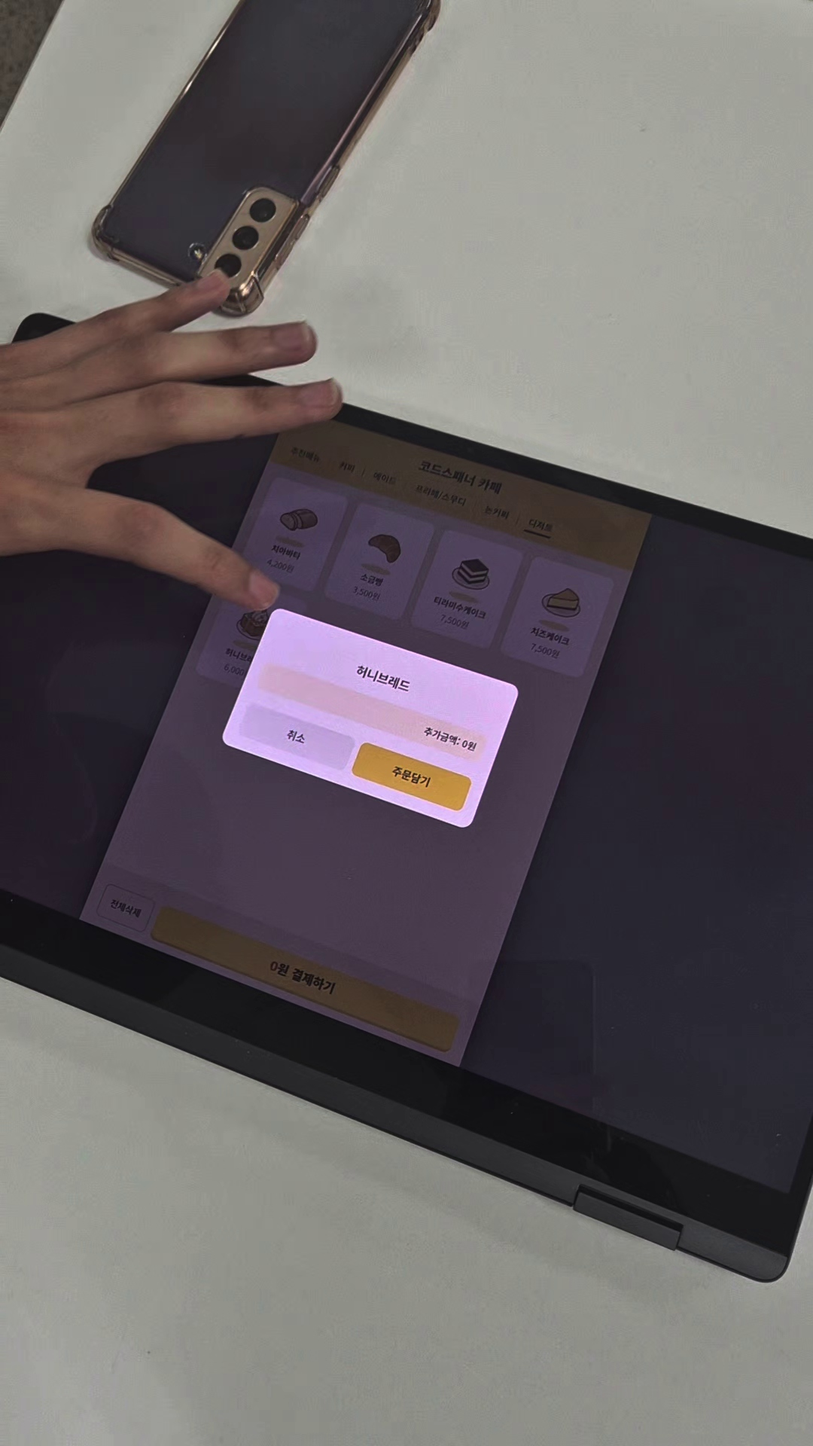action_button: (150, 905, 462, 1054), (350, 741, 473, 813), (237, 702, 358, 772), (95, 883, 156, 933)
category_tab: (413, 482, 468, 509), (289, 445, 323, 465), (482, 503, 511, 522), (526, 516, 554, 535), (371, 470, 399, 487), (337, 460, 357, 475)
menu_back: (498, 555, 616, 680), (409, 528, 524, 650), (322, 502, 437, 622), (240, 476, 350, 593)
menu_name: (352, 662, 413, 695), (431, 595, 488, 621), (529, 626, 571, 647), (270, 543, 303, 561), (359, 572, 385, 588)
menu_price: (529, 641, 561, 661), (438, 612, 470, 631), (350, 584, 382, 603), (264, 556, 296, 575)
popup_modal: (218, 606, 521, 831)
